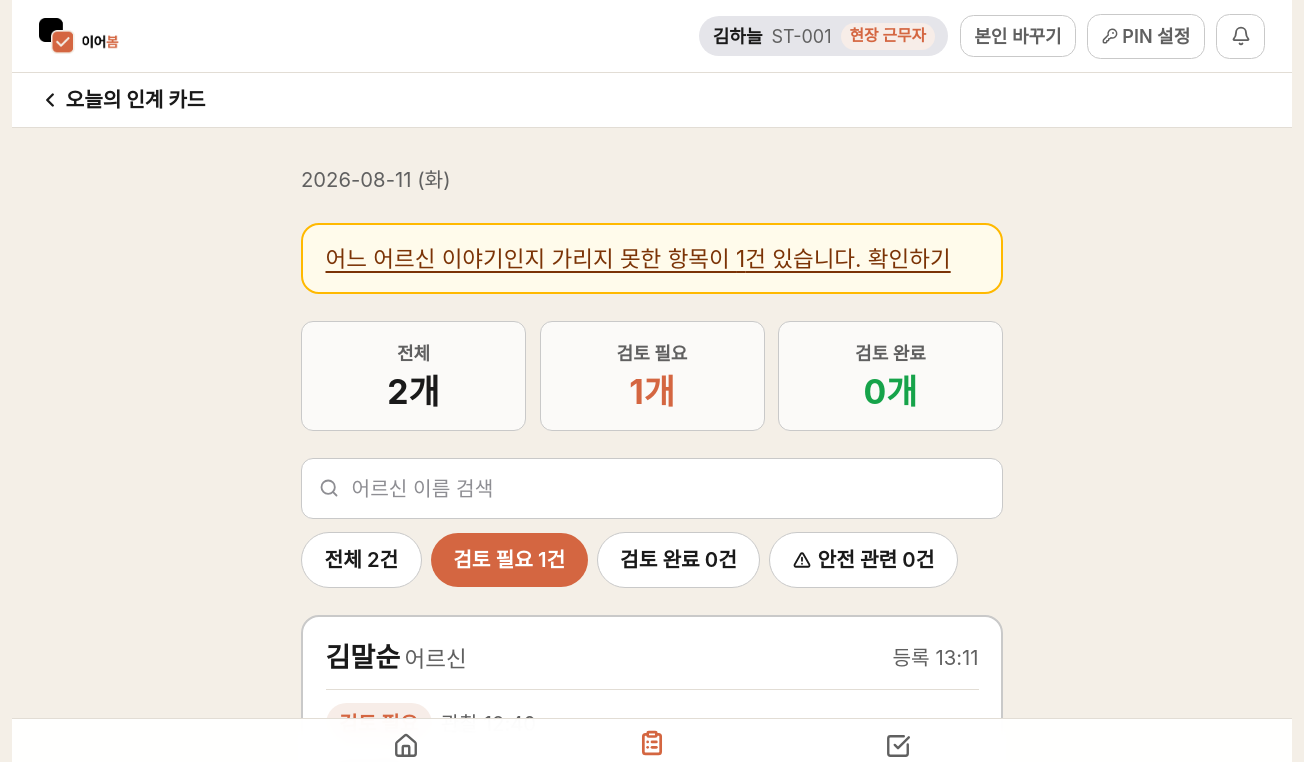
it: 어르신을 가리지 못한 항목 (n23 negative → n24) › 검토 필요 항목 화면에서 확인한다
This screenshot has width=1304, height=762.
Click the link "어느 어르신 이야기인지 가리지 못한 항목이 1건 있습니다. 확인하기". click: click(652, 258)
box: [301,222,1003,294]
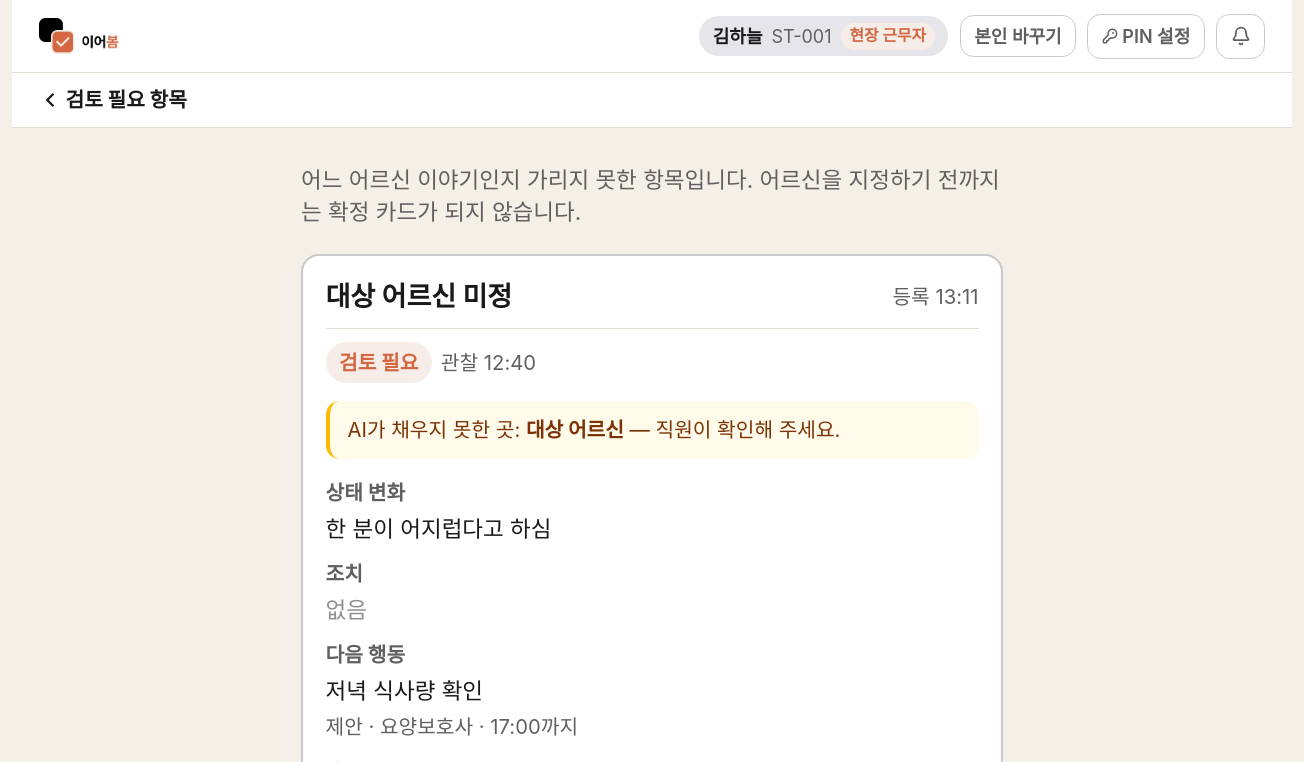
Check: the text "검토 필요 항목" is shown, box [66,84,187,116]
Check: the text "한 분이 어지럽다고 하심" is shown, box [326,516,552,542]
